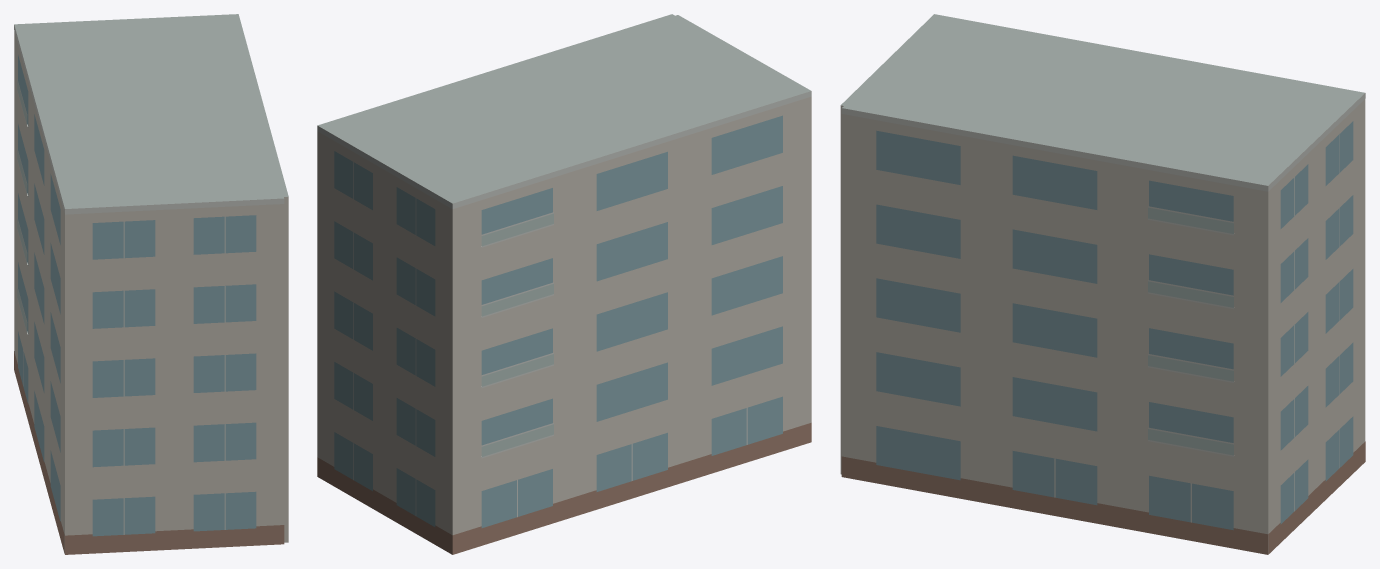
Rendered from survey-upis-32531785.glb.
The picture shows the model from 3 angles, left to right: view 1: azimuth 30°, elevation 25°; view 2: azimuth 150°, elevation 25°; view 3: azimuth 270°, elevation 25°; orthographic projection. The views are drawn at different scales.
Parts seen in each view (by area): view 1: survey-upis-32531785.tmp; view 2: survey-upis-32531785.tmp; view 3: survey-upis-32531785.tmp.
Boxes of the visible parts, <box> form: survey-upis-32531785.tmp: <box>14,14,288,554</box>; survey-upis-32531785.tmp: <box>317,14,811,554</box>; survey-upis-32531785.tmp: <box>840,14,1365,554</box>.
Size of the model in its own units: 15.4 by 15.4 by 19.87.
